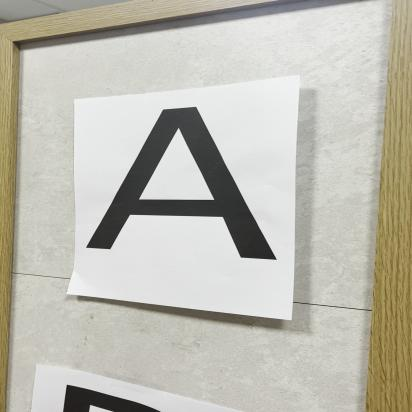seat: (64, 92, 302, 274)
